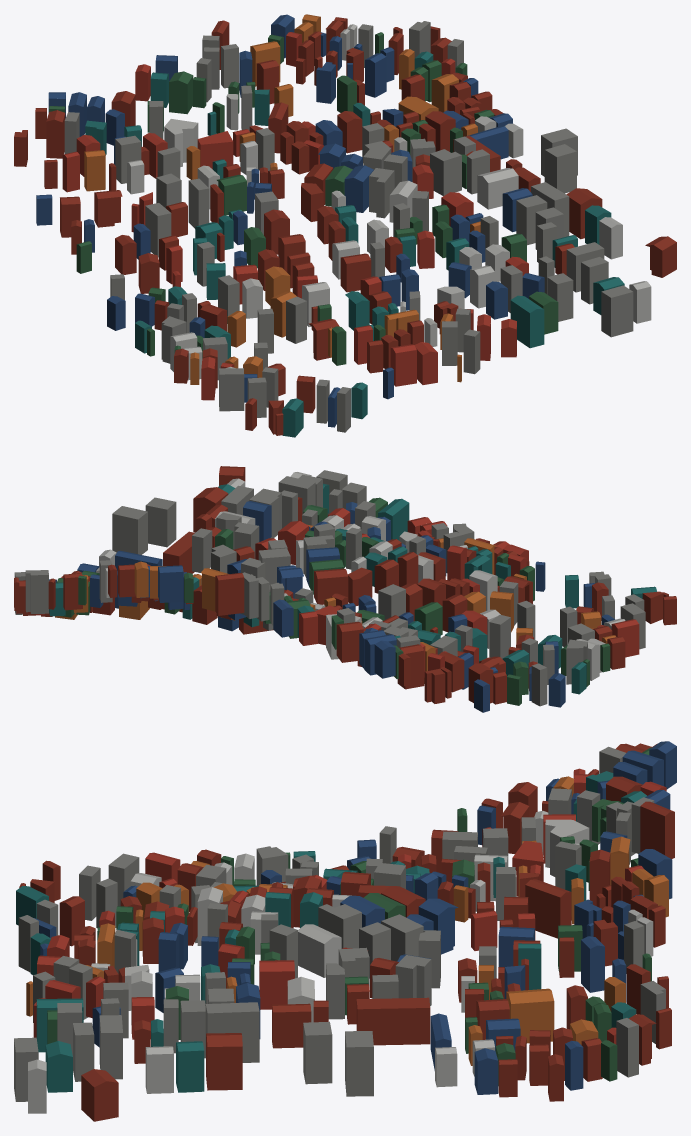
Rendered from near-17-109439-59471.3ca07c37.glb.
3 renders of one model, top to bottom at view 1: azimuth 30°, elevation 25°; view 2: azimuth 150°, elevation 25°; view 3: azimuth 270°, elevation 25°, orthographic. The views are drawn at different scales.
Size of the model in its own units: 302 by 119 by 300.
